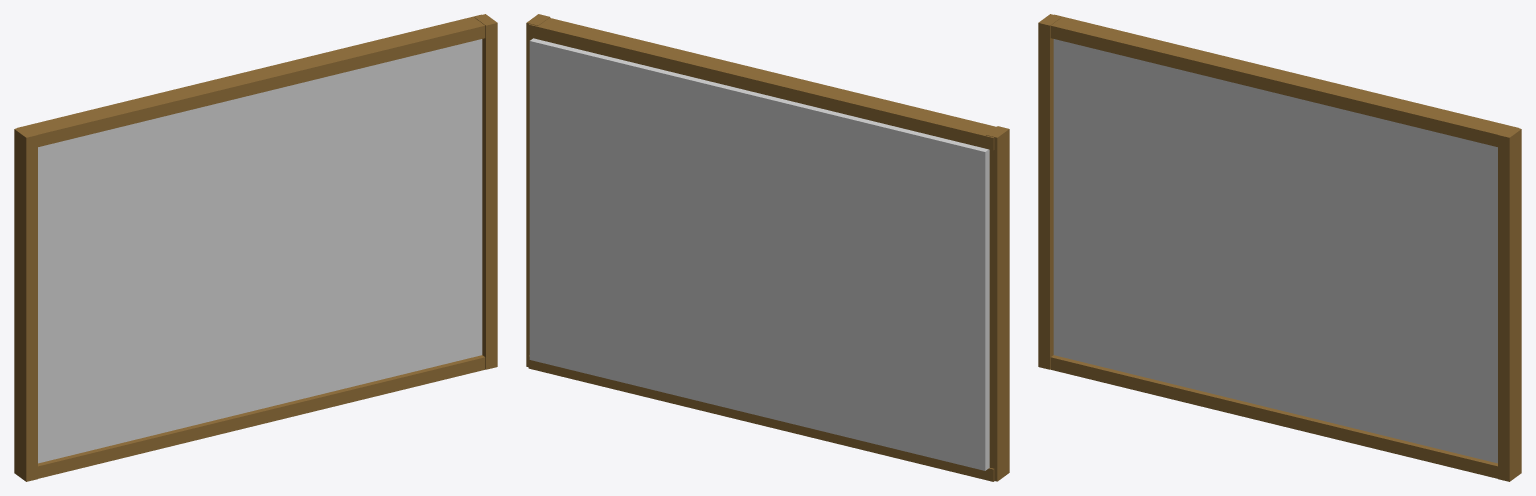
Rendered from Cuadro sin dibujo.fbx.
The picture shows the model from 3 angles, left to right: view 1: azimuth 30°, elevation 25°; view 2: azimuth 150°, elevation 25°; view 3: azimuth 330°, elevation 25°; orthographic projection.
Visible parts, largest first — view 1: Cuadro sin dibujo; view 2: Cuadro sin dibujo; view 3: Cuadro sin dibujo.
Part boxes in pixels (left/top/right/bottom): Cuadro sin dibujo: left=14, top=14, right=497, bottom=481; Cuadro sin dibujo: left=526, top=14, right=1009, bottom=481; Cuadro sin dibujo: left=1038, top=14, right=1521, bottom=481.
Bounding box in the file's own units: 211 × 147 × 12.82.
